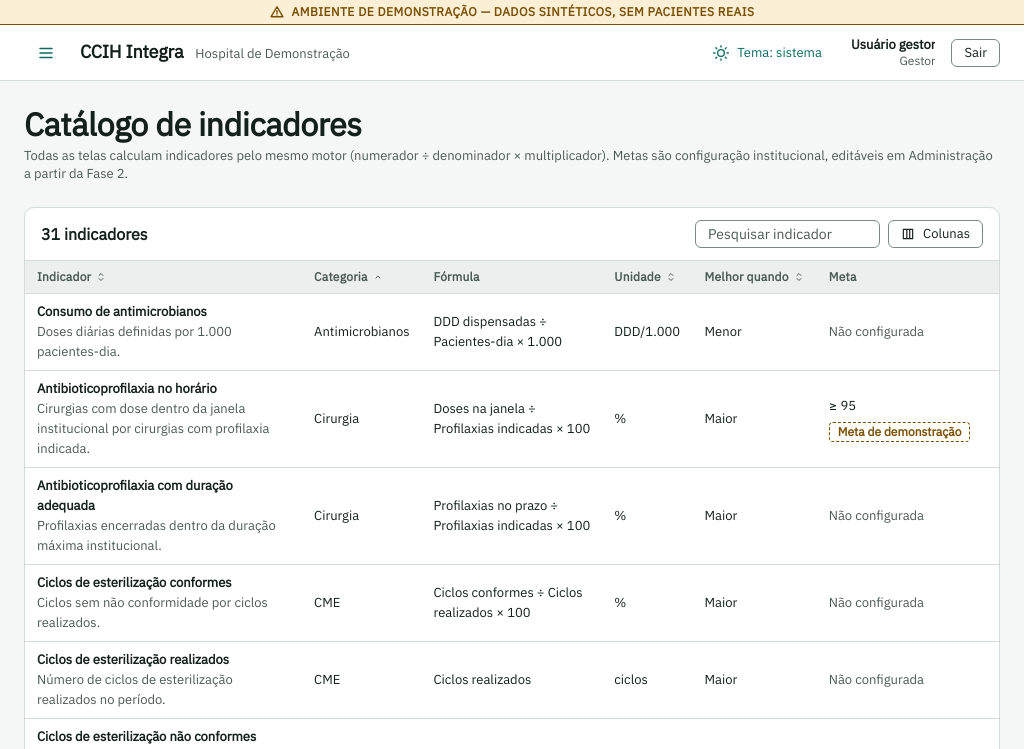
Test: logout › returns to the login page and keeps no cached data
Expected: the heading "Catálogo de indicadores" is shown, [24,103,362,145]
What coordinates should you click on to do the following:
click the button "Sair"
I would click on:
 (976, 52)
Its box is [952,38,1000,66].
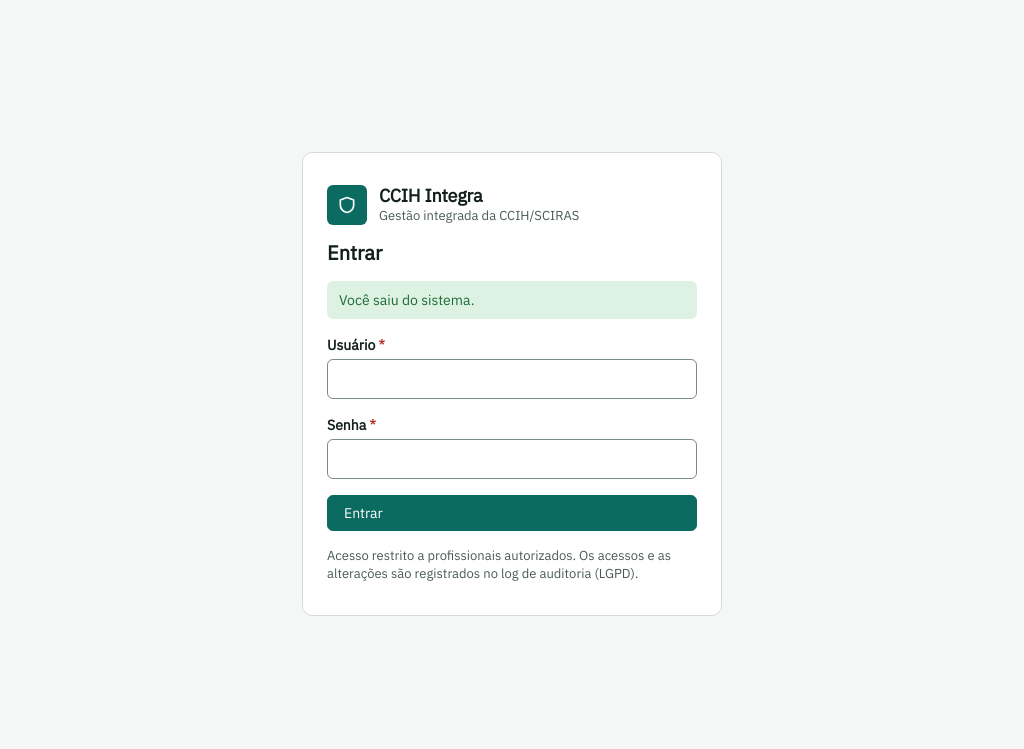
Now the text "Você saiu do sistema." is shown, box [327,281,697,319]
